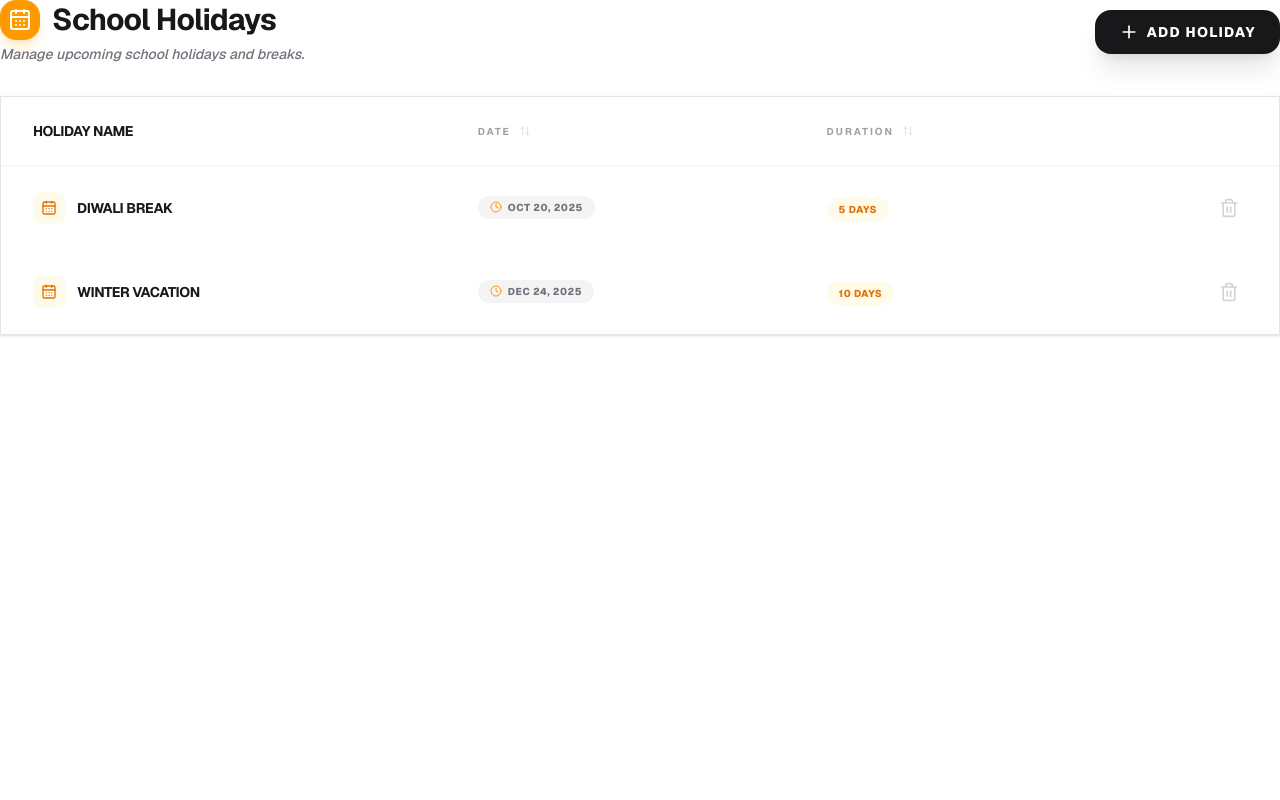
it: HolidaysPage › opens the add holiday modal and submits successfully
Click the button "Add Holiday" at (1187,32), box [1094, 10, 1279, 54]
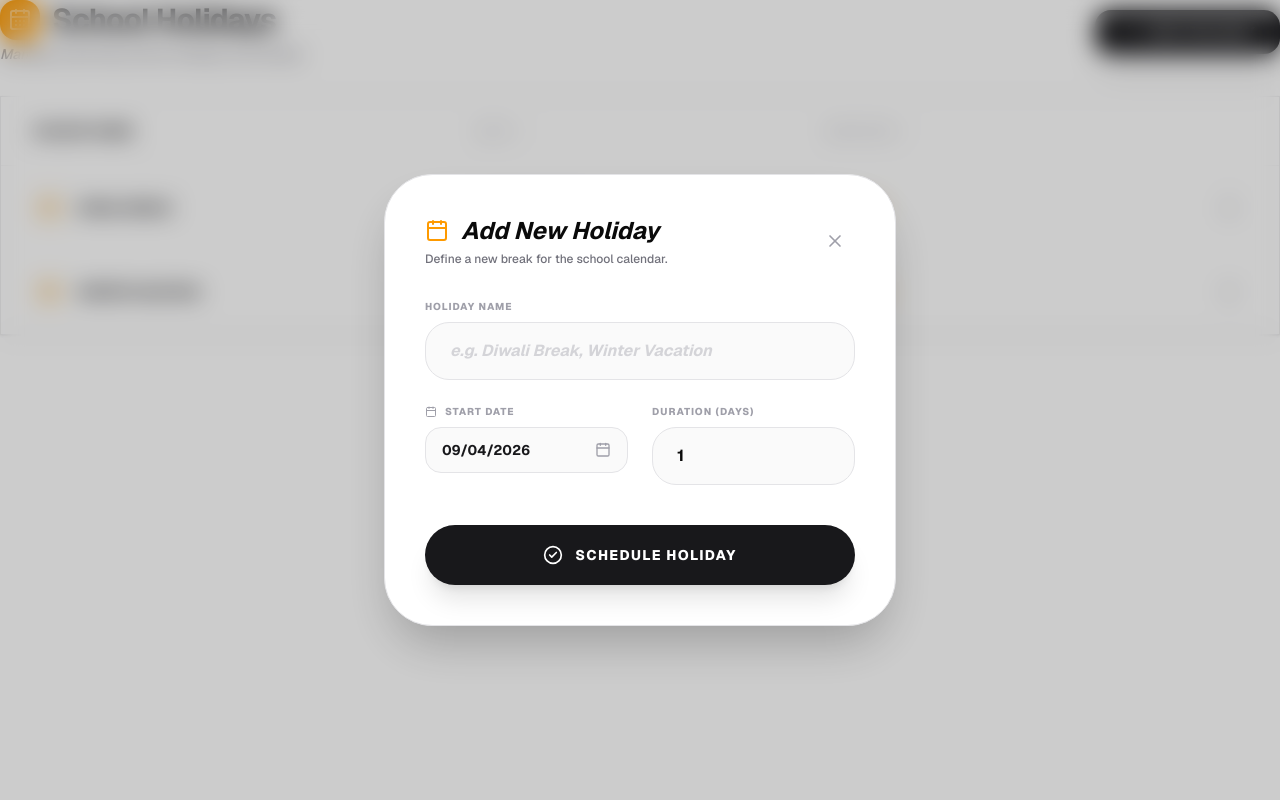
Check: the heading "Add New Holiday" is shown, box [425, 215, 668, 247]
Type "New Holiday" into the field with placeholder "e.g. Diwali Break, Winter Vacation" at (640,351), box [425, 322, 855, 380]
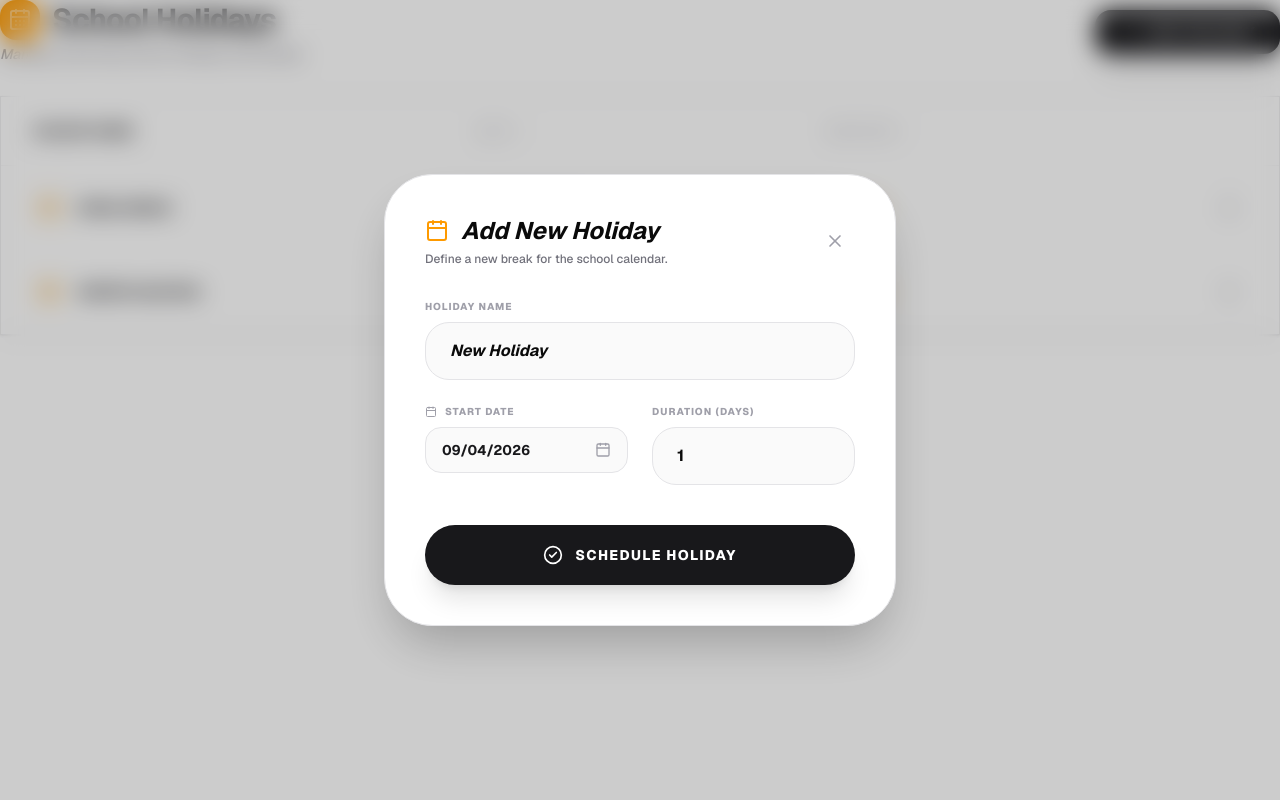
Replace the text in the number field showing "1" with "2" at (754,456), box [652, 427, 855, 485]
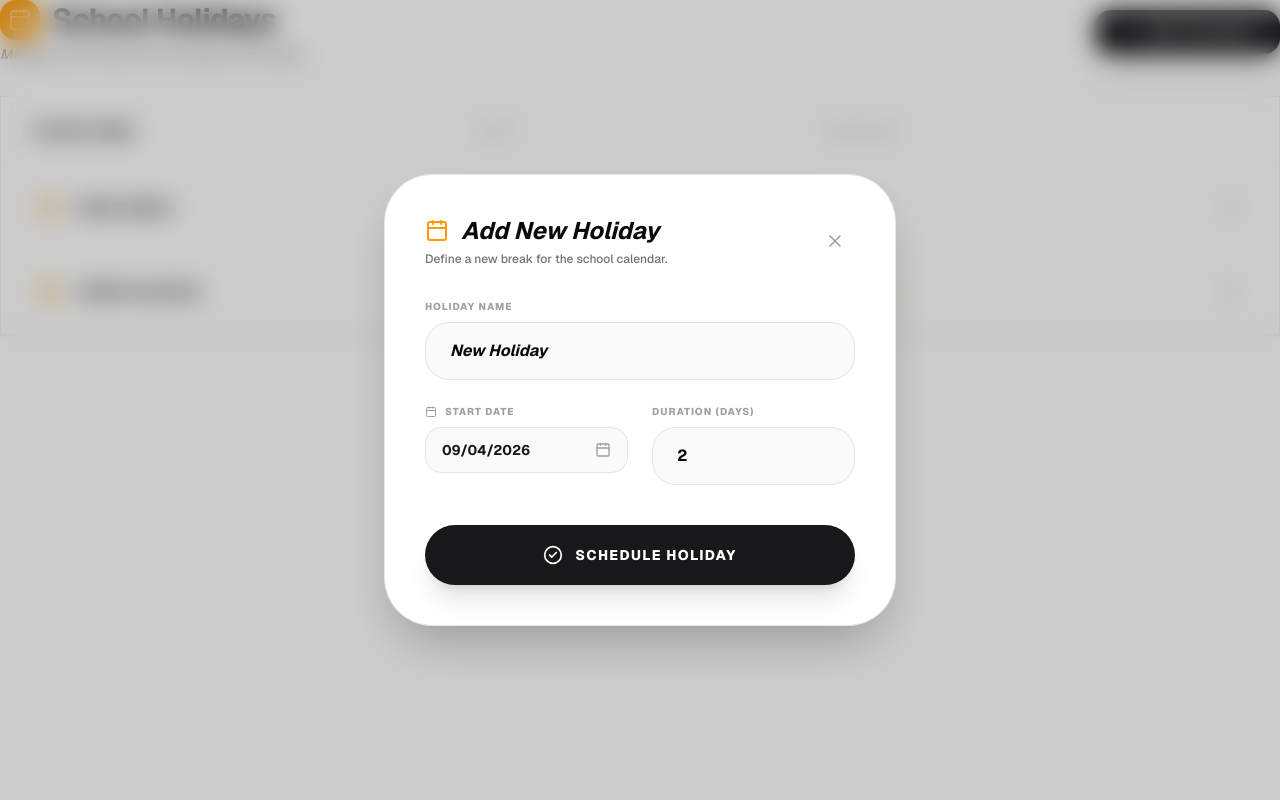
Click the button "Schedule Holiday" at (640,555), box [425, 525, 855, 585]
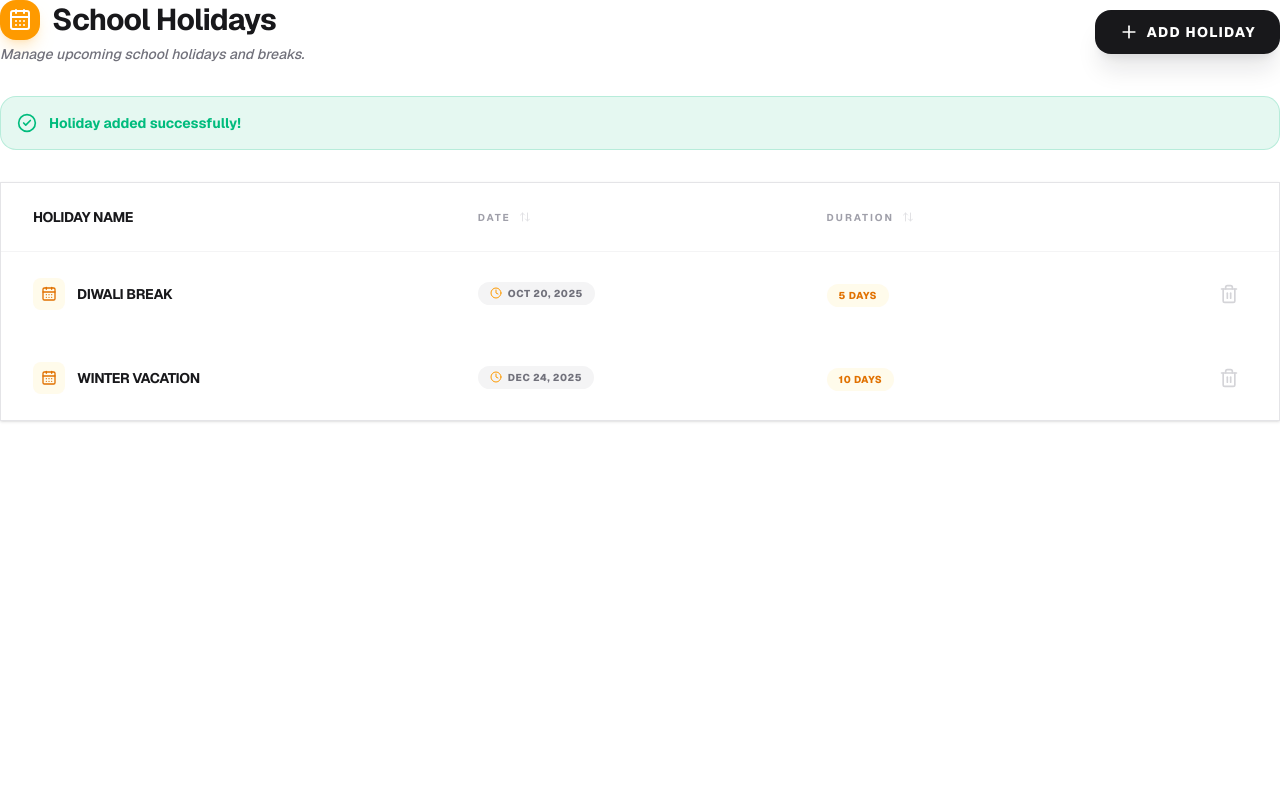
Check: the text "Holiday added successfully!" is shown, box [49, 113, 241, 133]
